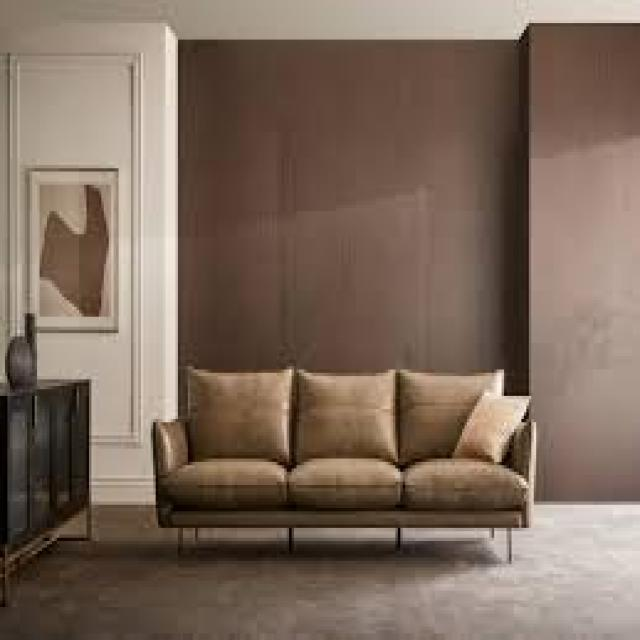Sofa: (130, 346, 580, 574)
